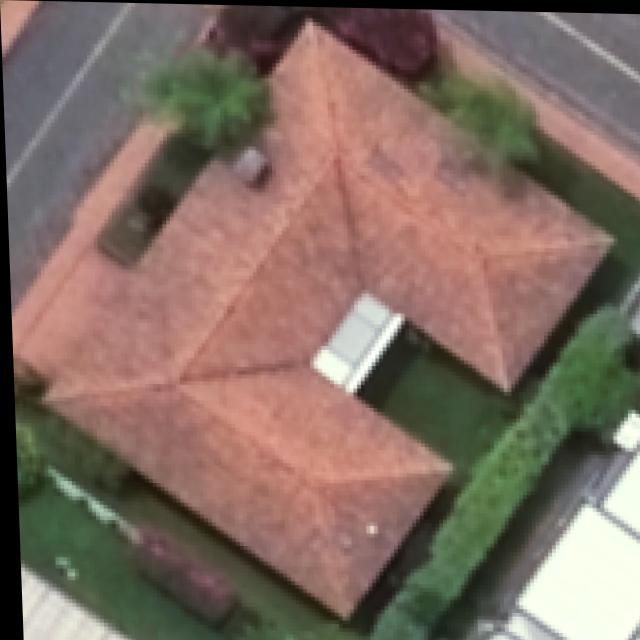Batiment: (11, 21, 606, 613)
